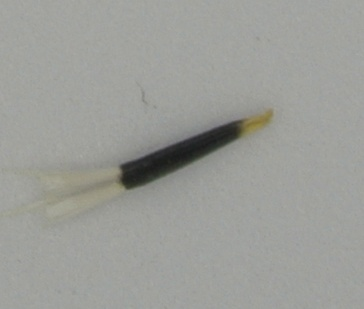เมล็ดดีติดกัน: (3, 107, 275, 228)
